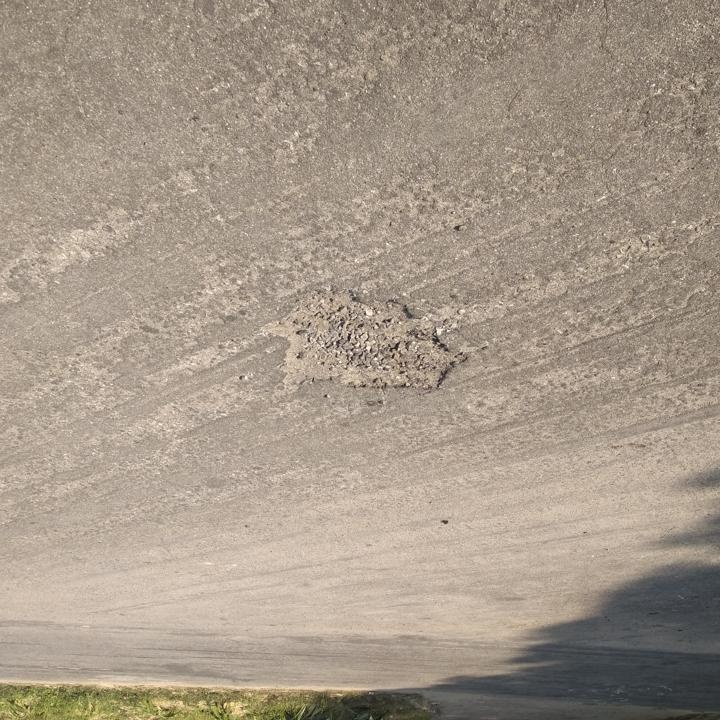pothole: (258, 287, 472, 399)
